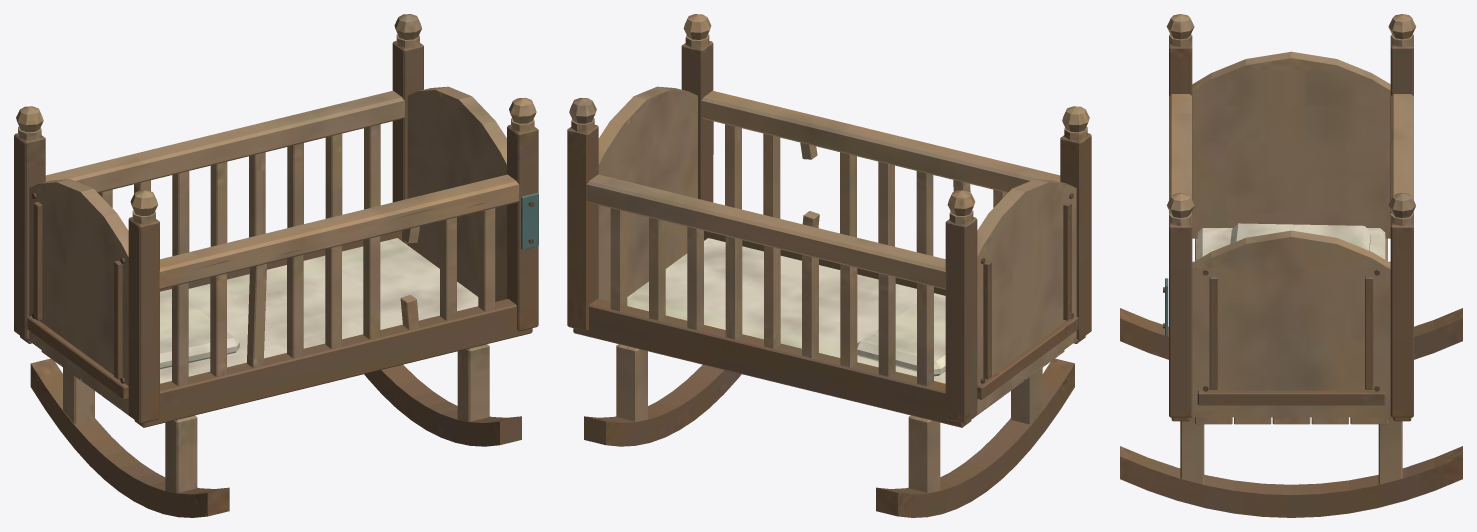
The model's file is B12_small_cradle.glb.
The picture shows the model from 3 angles, left to right: view 1: azimuth 30°, elevation 25°; view 2: azimuth 150°, elevation 25°; view 3: azimuth 270°, elevation 25°; orthographic projection. The views are drawn at different scales.
Parts seen in each view (by area): view 1: Curved wooden rocker; view 2: Curved wooden rocker; view 3: Curved wooden rocker.
Boxes of the visible parts, left/top/right/bottom form: Curved wooden rocker: left=14, top=14, right=538, bottom=517; Curved wooden rocker: left=567, top=14, right=1091, bottom=517; Curved wooden rocker: left=1120, top=14, right=1462, bottom=517.
Size of the model in its own units: 0.9 by 0.7482 by 0.6841.
5 materials, 5 textured.
